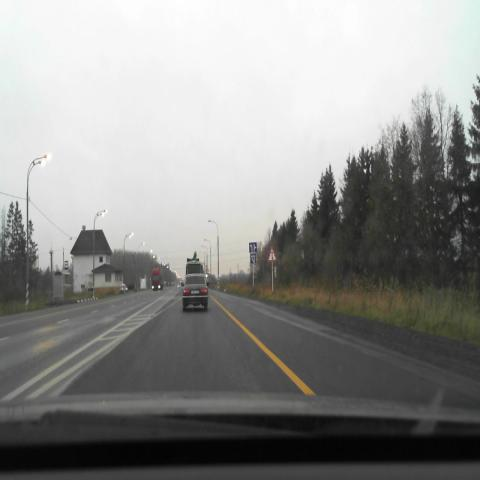1_8: (267, 245, 277, 261)
5_15_2_2: (249, 242, 257, 253)
